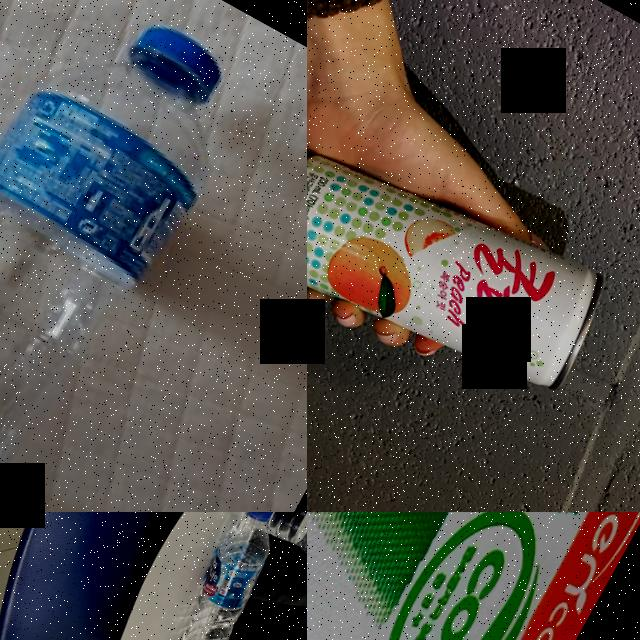bottle: (0, 0, 266, 512), (144, 512, 300, 640), (235, 512, 307, 596)
can: (307, 117, 619, 427)
